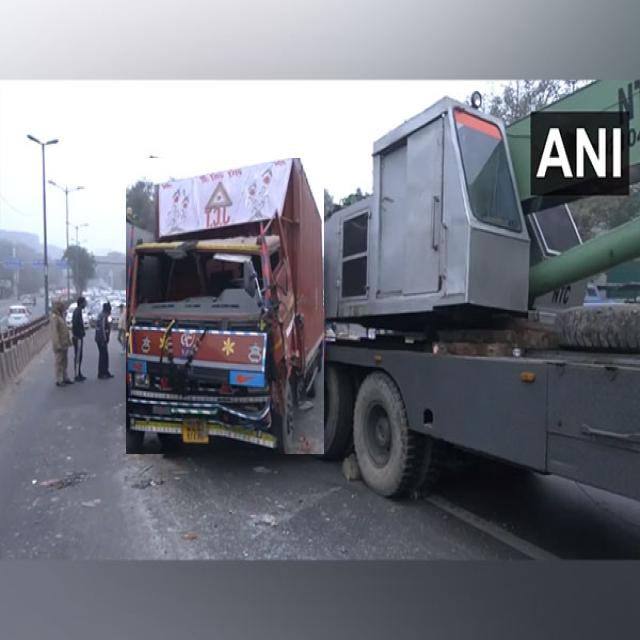accident: (126, 159, 324, 454)
